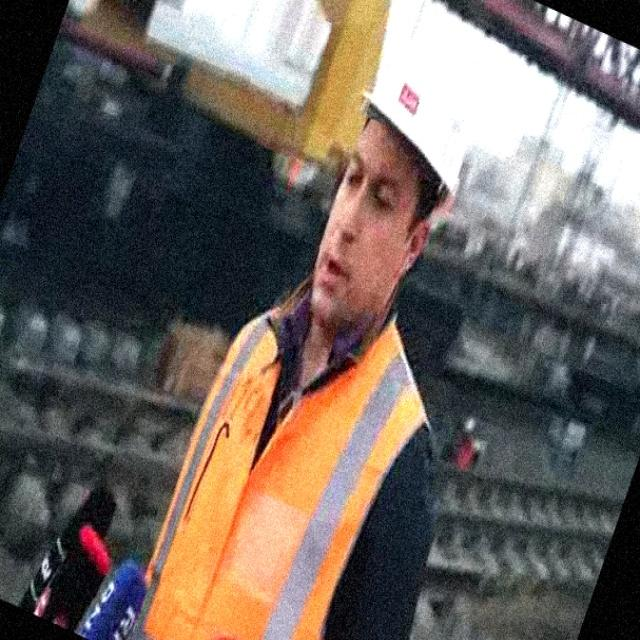helmet: (364, 47, 474, 204)
safety_vest: (128, 293, 442, 640)
